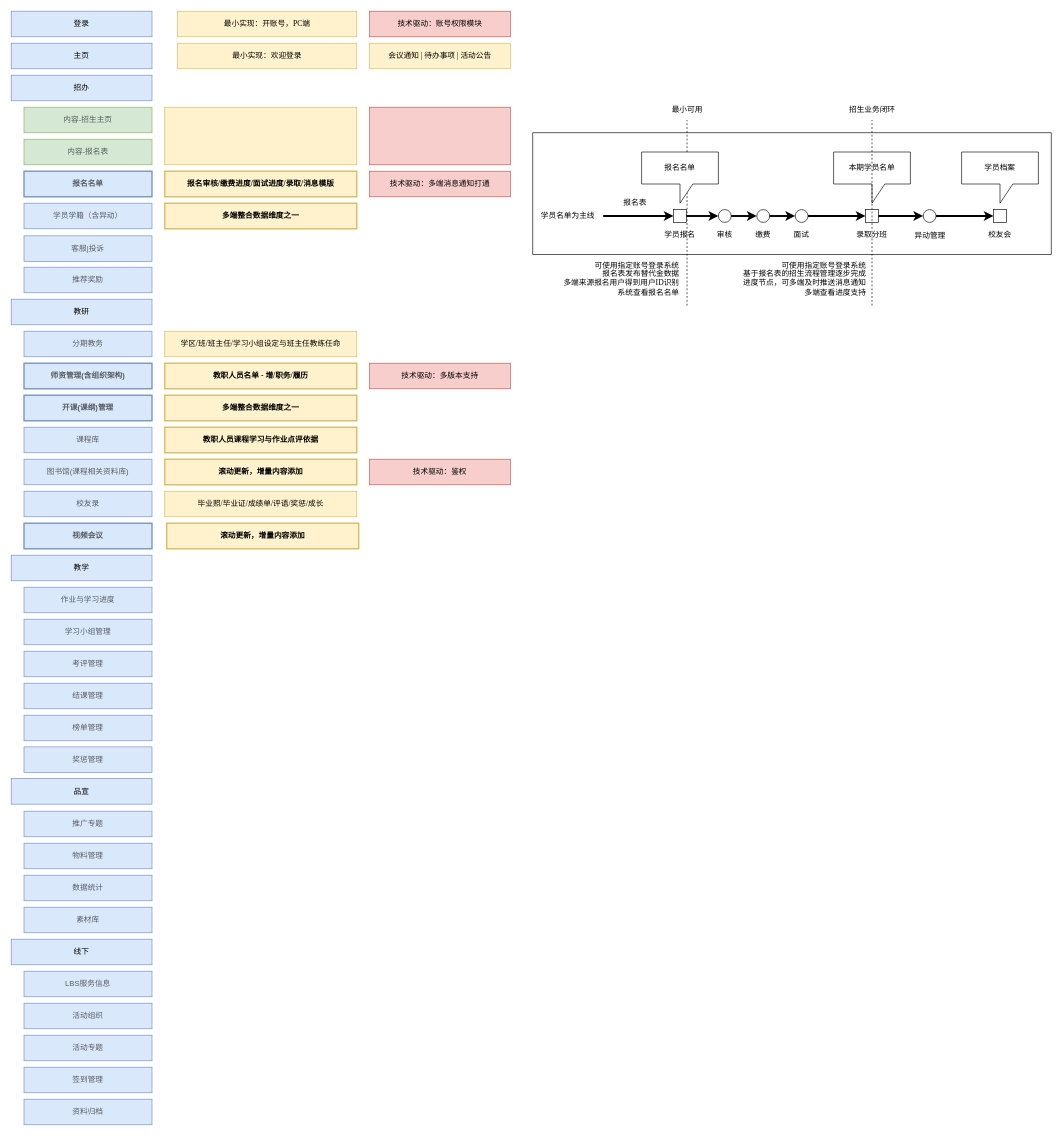
Some shapes in this 1062 by 1136 pixel diagram are drawn without their labels. The shapes that lost their labels are listed below. From the top down, each one's centre as x and y in pixels, then its label:
point (260, 136): 多端页面模版定制与内容管理 多端推送|发布
point (439, 136): 技术驱动：同步内容至CMS审核上架 发布至小程序 多端来源报名者身份得到用户识别
